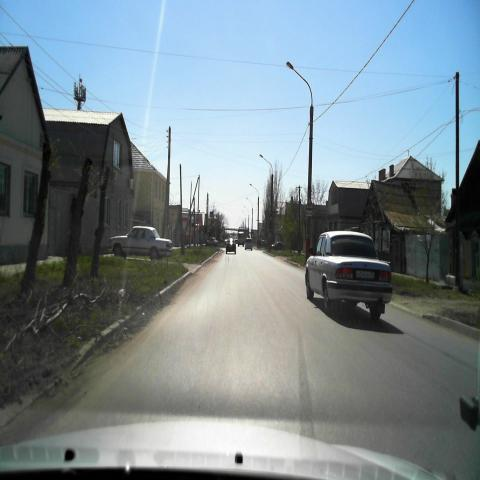1_23: (305, 197, 313, 211)
